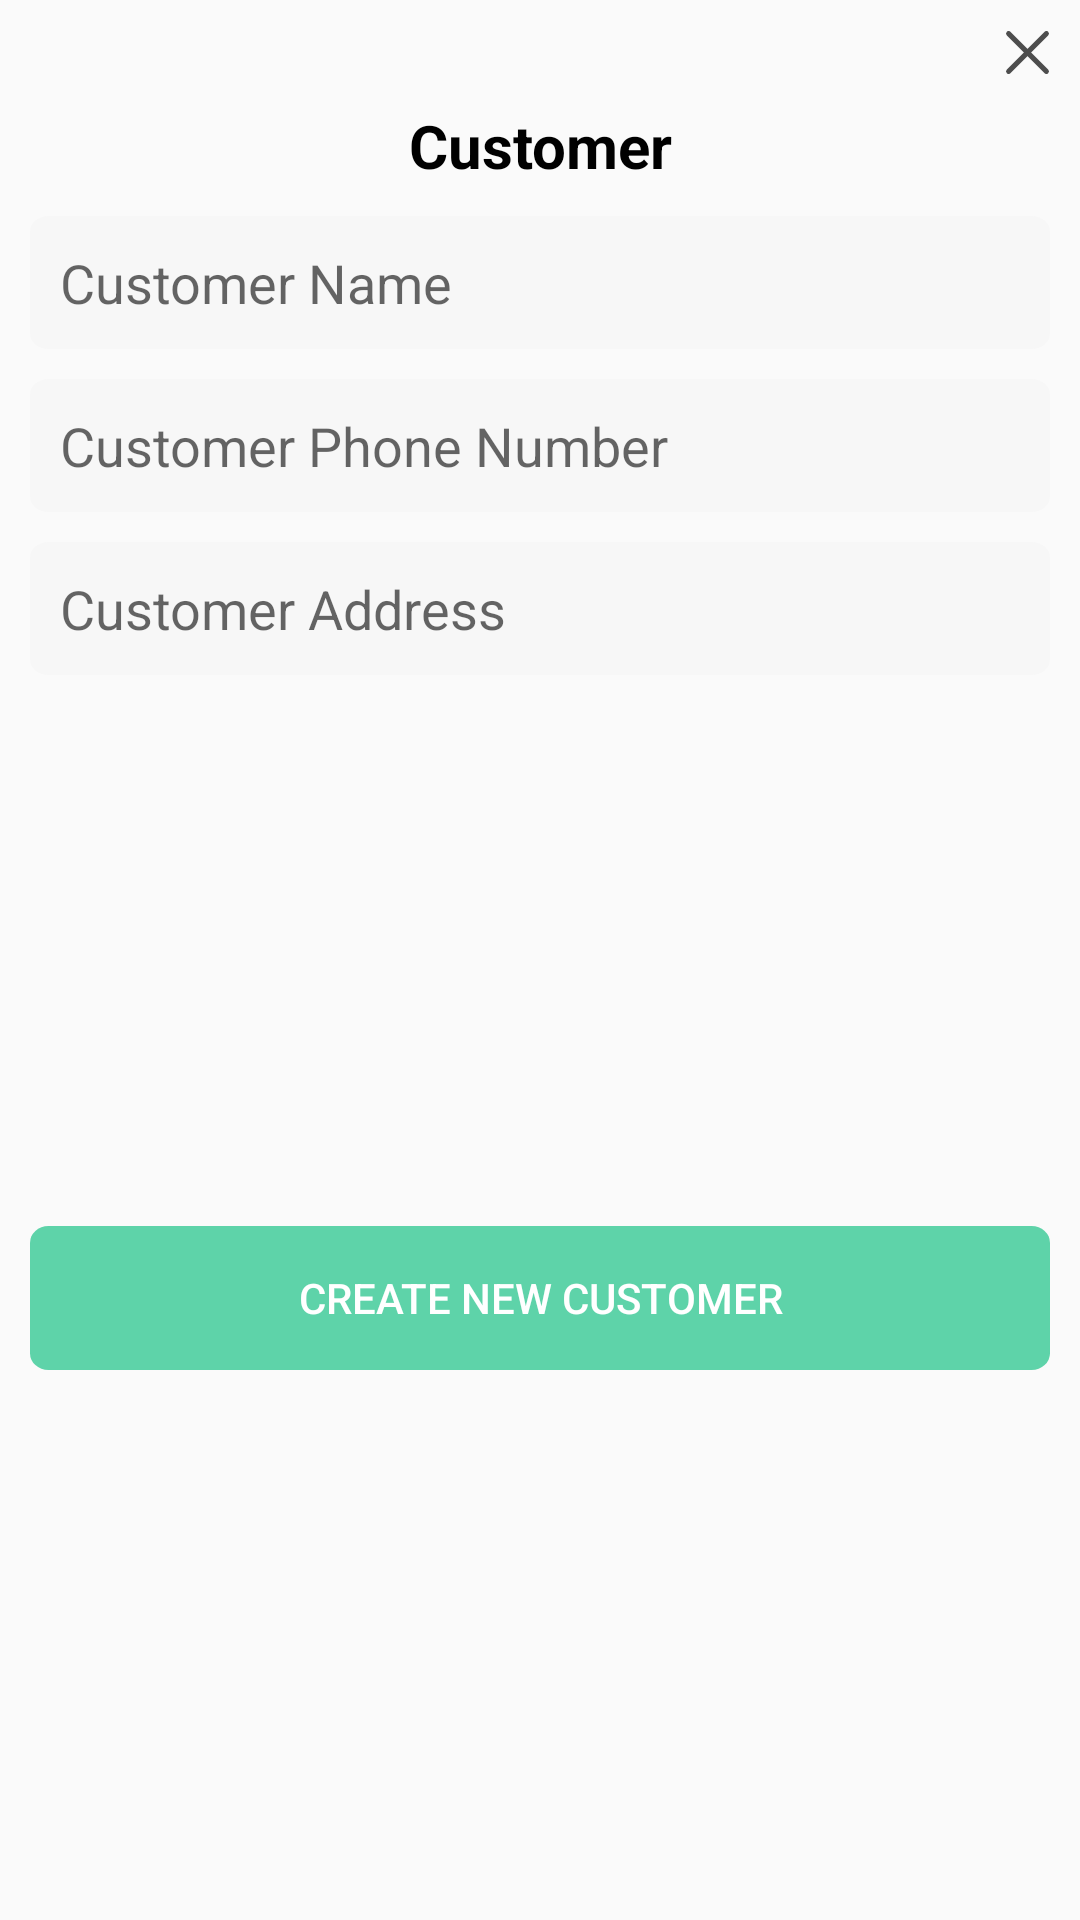

Icon click points for this 1080 × 1920 phone screenshot, format [x,y]:
close: [1027,52]
